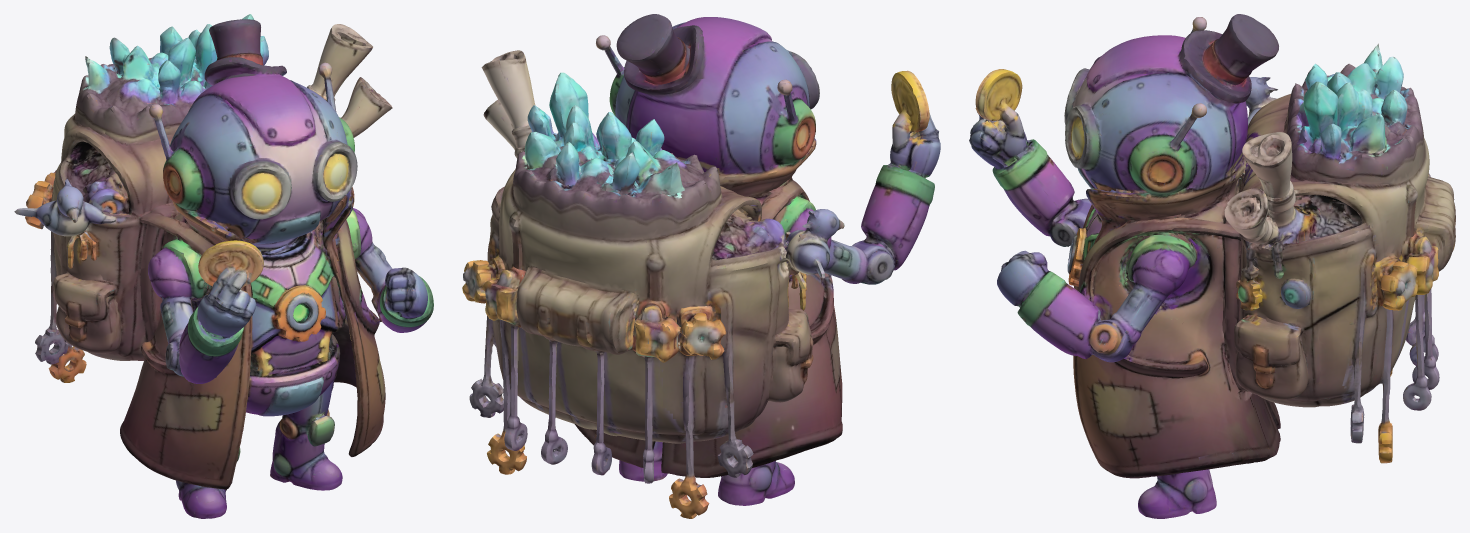
The model's file is merchant.glb.
3 views of the same model, side by side, from view 1: azimuth 30°, elevation 25°; view 2: azimuth 150°, elevation 25°; view 3: azimuth 270°, elevation 25° (orthographic). The views are drawn at different scales.
Parts seen in each view (by area): view 1: output; view 2: output; view 3: output.
Part boxes in pixels (x1,y1,x2,y2): output: [14, 14, 433, 518]; output: [462, 14, 940, 518]; output: [969, 14, 1455, 518].
Size of the model in its own units: 1.55 by 1.93 by 1.82.
Materials: 1 (1 with a texture image).
